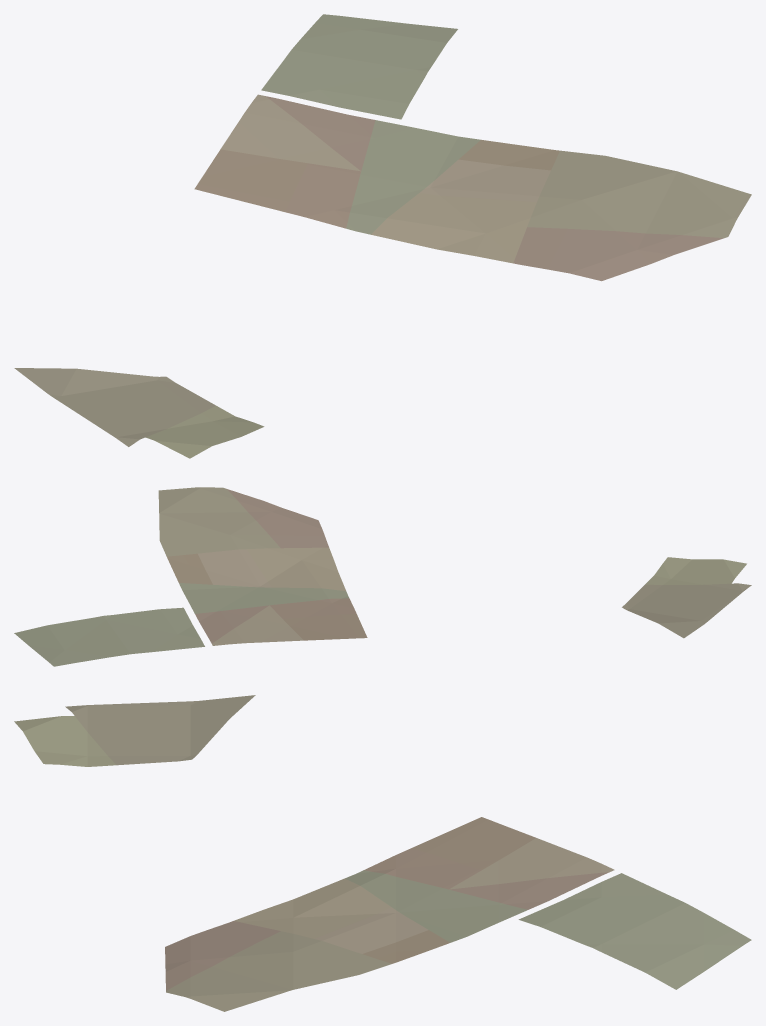
The model's file is farm_21_20_soil.glb.
The picture shows the model from 3 angles, top to bottom: view 1: azimuth 30°, elevation 25°; view 2: azimuth 150°, elevation 25°; view 3: azimuth 270°, elevation 25°; orthographic projection. The views are drawn at different scales.
Visible parts, largest first — view 1: geometry_0; view 2: geometry_0; view 3: geometry_0.
Part boxes in pixels (x1,y1,x2,y2): geometry_0: (14,14,751,458); geometry_0: (14,487,751,666); geometry_0: (14,695,751,1011).
Size of the model in its own units: 601 by 30.99 by 575.
